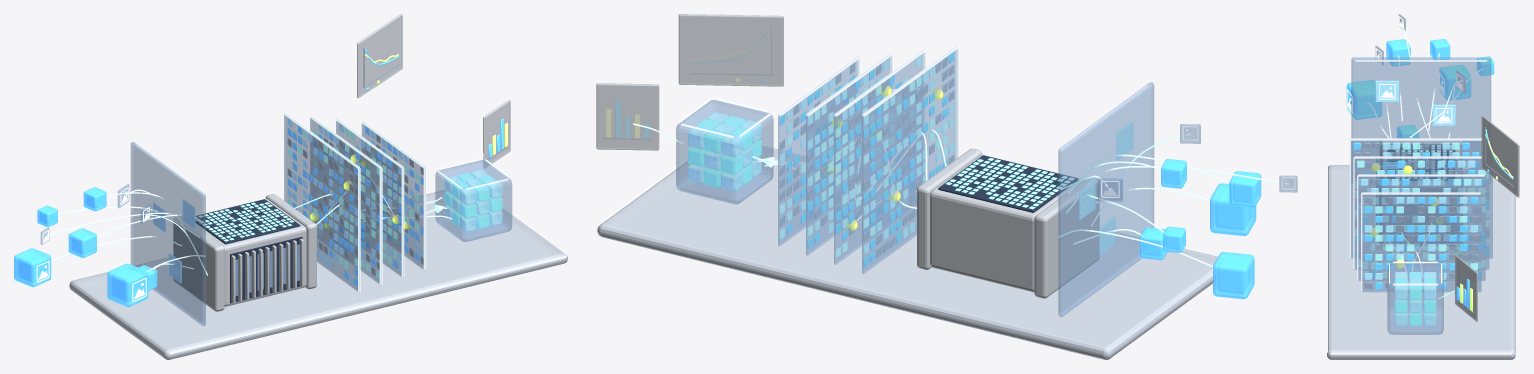
File: ai-ml-training-pipeline.glb
3 renders of one model, left to right at view 1: azimuth 30°, elevation 25°; view 2: azimuth 150°, elevation 25°; view 3: azimuth 270°, elevation 25°, orthographic. The views are drawn at different scales.
Visible parts, largest first — view 1: Base, ProcessorCore, InputPanel, FeatureLayer01, FeatureLayer02, TrainedModel, FeatureLayer03, FeatureLayer04, TrainedModelCore, TrainingChart, DataPaths, InputCube03 (+4 smaller); view 2: Base, ProcessorCore, InputPanel, FeatureLayer01, FeatureLayer02, TrainedModel, TrainingChart, FeatureLayer03, FeatureLayer04, TrainedModelCore, PredictionChart, DataPaths (+8 smaller); view 3: Base, InputPanel, FeatureLayer04, FeatureLayer03, FeatureLayer02, FeatureLayer01, TrainedModel, ProcessorCore, TrainedModelCore, TrainingChart, DataPaths, InputCube03 (+8 smaller).
Part boxes in pixels (x1,y1,x2,y2): Base: [69, 190, 567, 359]; ProcessorCore: [173, 194, 317, 311]; InputPanel: [130, 142, 205, 326]; FeatureLayer01: [284, 113, 360, 292]; FeatureLayer02: [310, 116, 382, 284]; TrainedModel: [435, 158, 512, 241]; FeatureLayer03: [336, 118, 404, 277]; FeatureLayer04: [361, 121, 426, 270]; TrainedModelCore: [444, 170, 502, 232]; TrainingChart: [357, 14, 402, 98]; DataPaths: [44, 151, 483, 275]; InputCube03: [107, 263, 148, 306]; Base: [597, 145, 1218, 359]; ProcessorCore: [916, 148, 1099, 298]; InputPanel: [1058, 82, 1154, 316]; FeatureLayer01: [862, 45, 959, 274]; FeatureLayer02: [834, 49, 926, 264]; TrainedModel: [676, 98, 773, 204]; TrainingChart: [678, 14, 783, 86]; FeatureLayer03: [806, 52, 893, 255]; FeatureLayer04: [778, 56, 860, 246]; TrainedModelCore: [688, 112, 761, 191]; PredictionChart: [596, 83, 659, 150]; DataPaths: [633, 87, 1288, 267]; Base: [1326, 165, 1515, 359]; InputPanel: [1351, 57, 1491, 183]; FeatureLayer04: [1361, 192, 1481, 292]; FeatureLayer03: [1357, 174, 1485, 280]; FeatureLayer02: [1353, 156, 1489, 269]; FeatureLayer01: [1349, 138, 1492, 258]; TrainedModel: [1387, 261, 1443, 334]; ProcessorCore: [1376, 140, 1462, 245]; TrainedModelCore: [1395, 272, 1436, 325]; TrainingChart: [1481, 115, 1519, 197]; DataPaths: [1367, 22, 1482, 299]; InputCube03: [1346, 80, 1381, 119].
Size of the model in its own units: 14.92 by 5.4 by 5.11.
